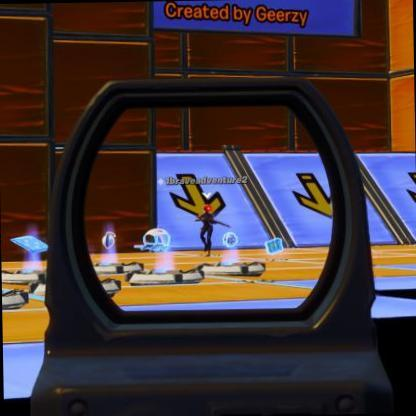person: (200, 206, 218, 261)
